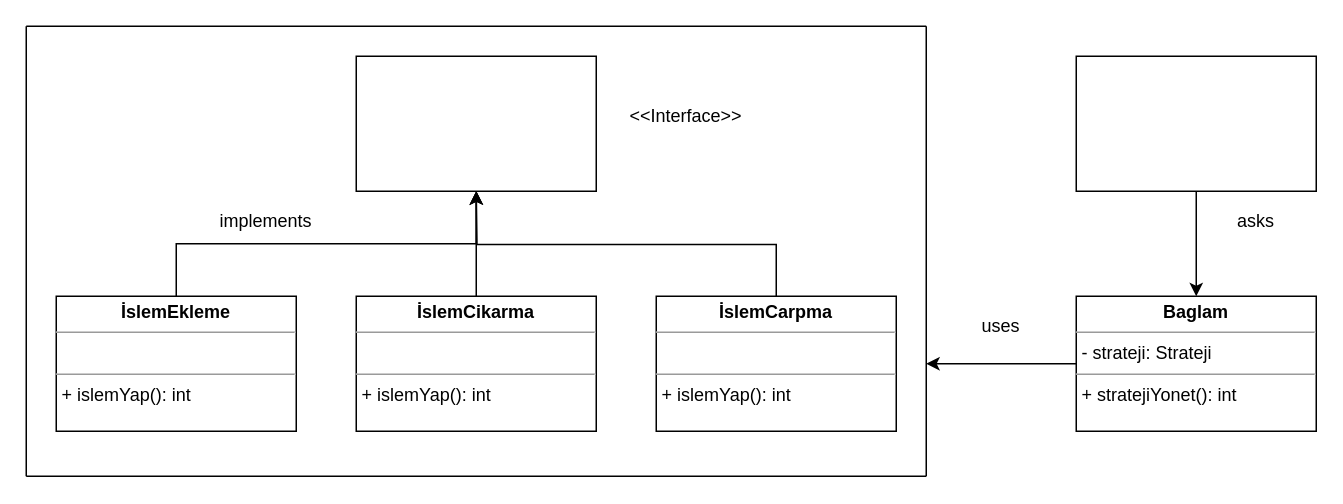
Some shapes in this 1343 by 504 pixel diagram are drawn without their labels. Each missing label, with the centre of its shape:
"CommandDesign + main(): void" goes at point (1195, 123).
"Strateji + islemYap(): int" goes at point (475, 123).
